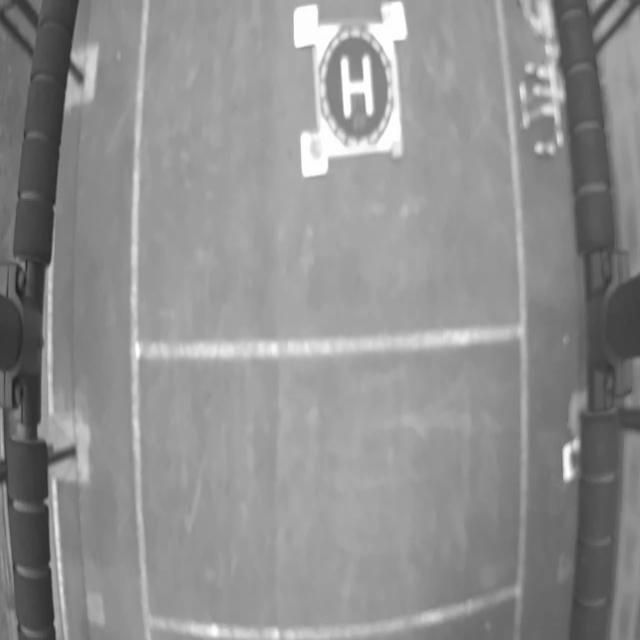Helipad: (340, 54, 374, 117)
